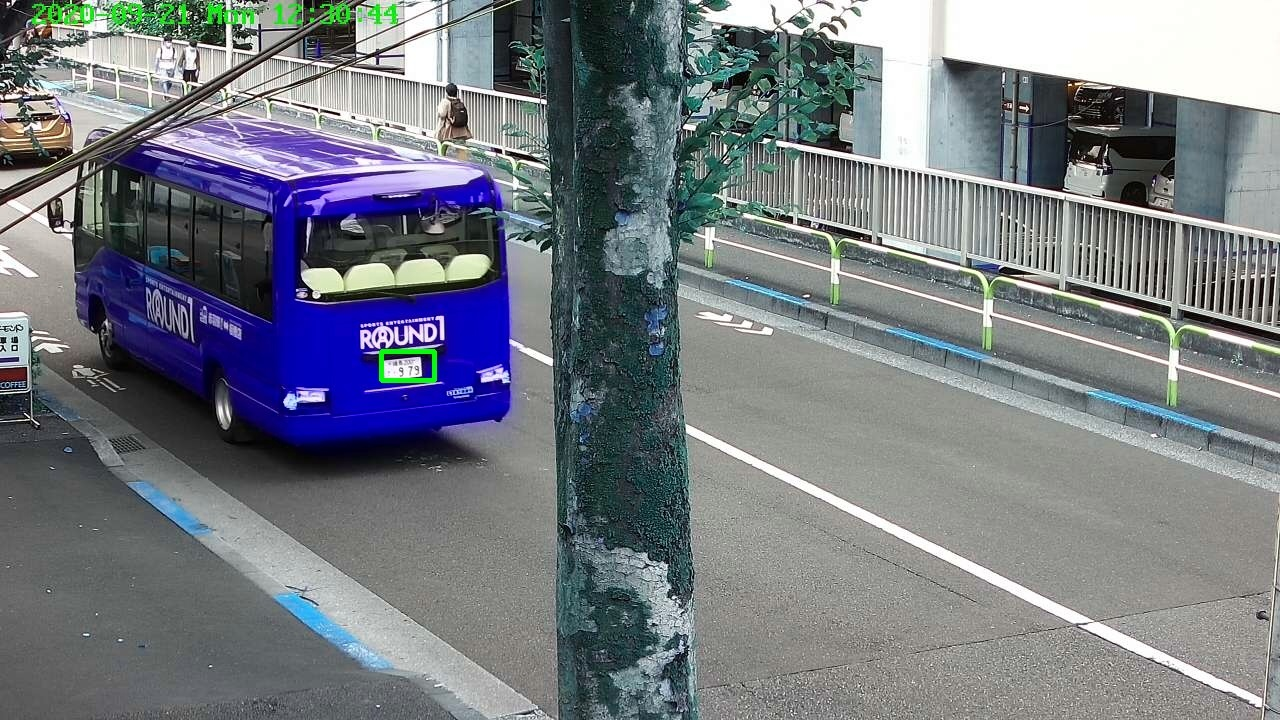number_plate: (381, 355, 426, 380)
